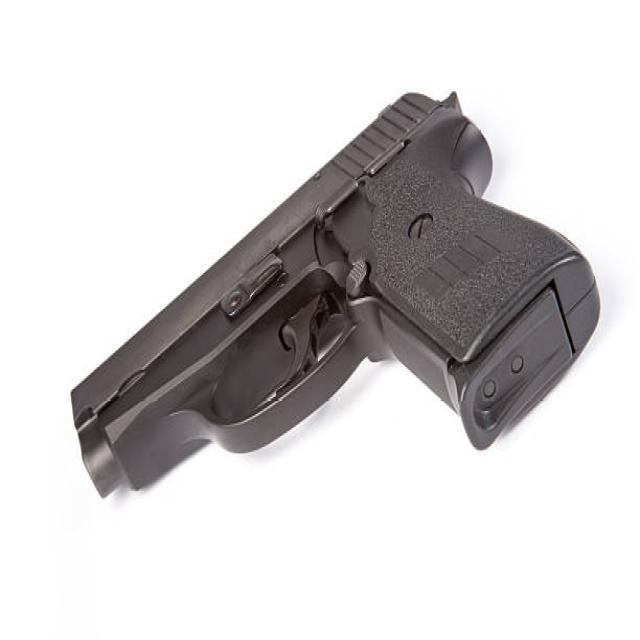pistol: (70, 85, 609, 506)
